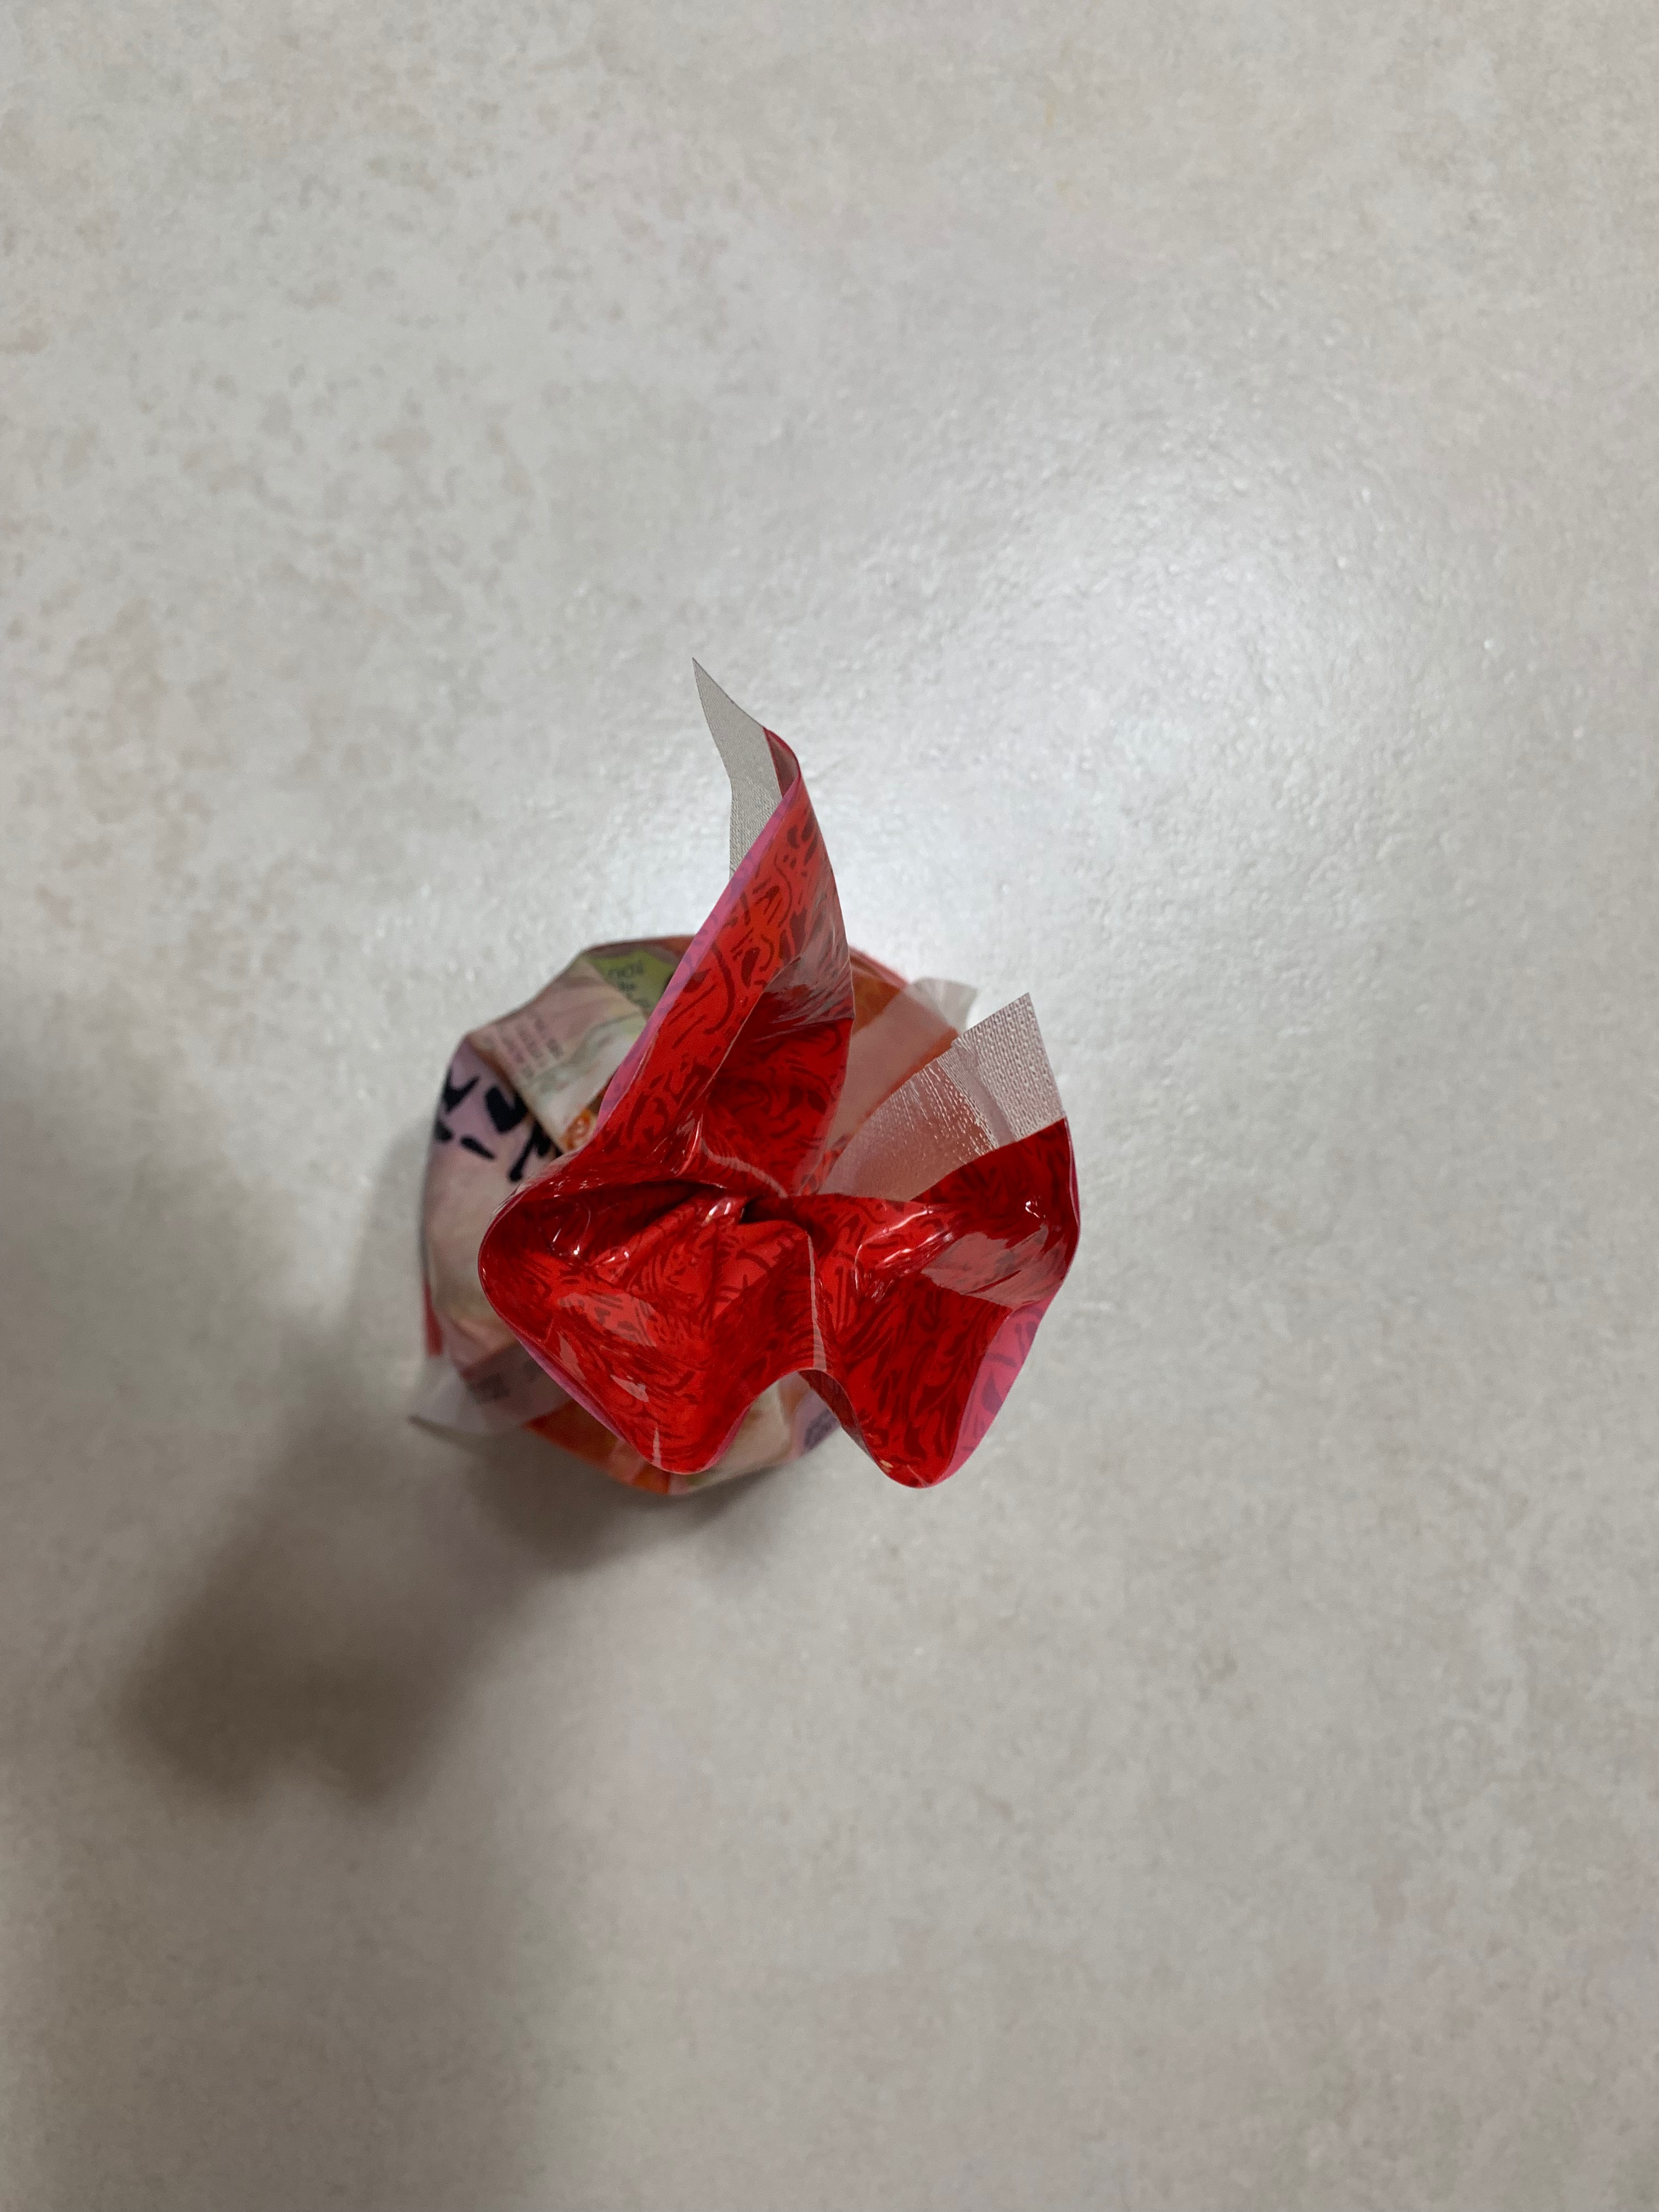kimchi: (418, 738, 1084, 1503)
